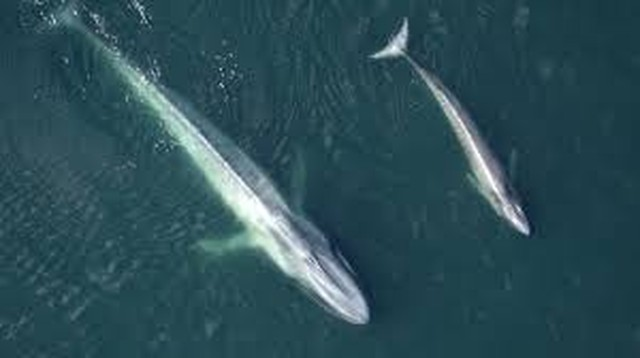whale: (41, 1, 379, 332), (365, 12, 543, 248)
